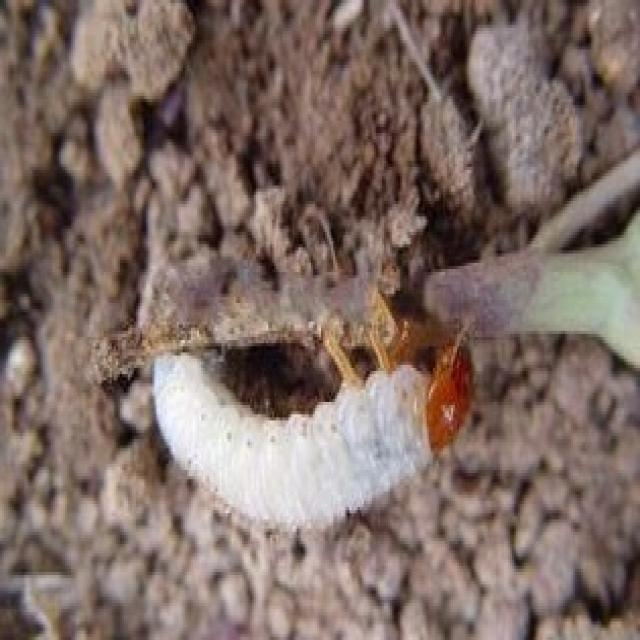grub: (139, 331, 474, 538)
